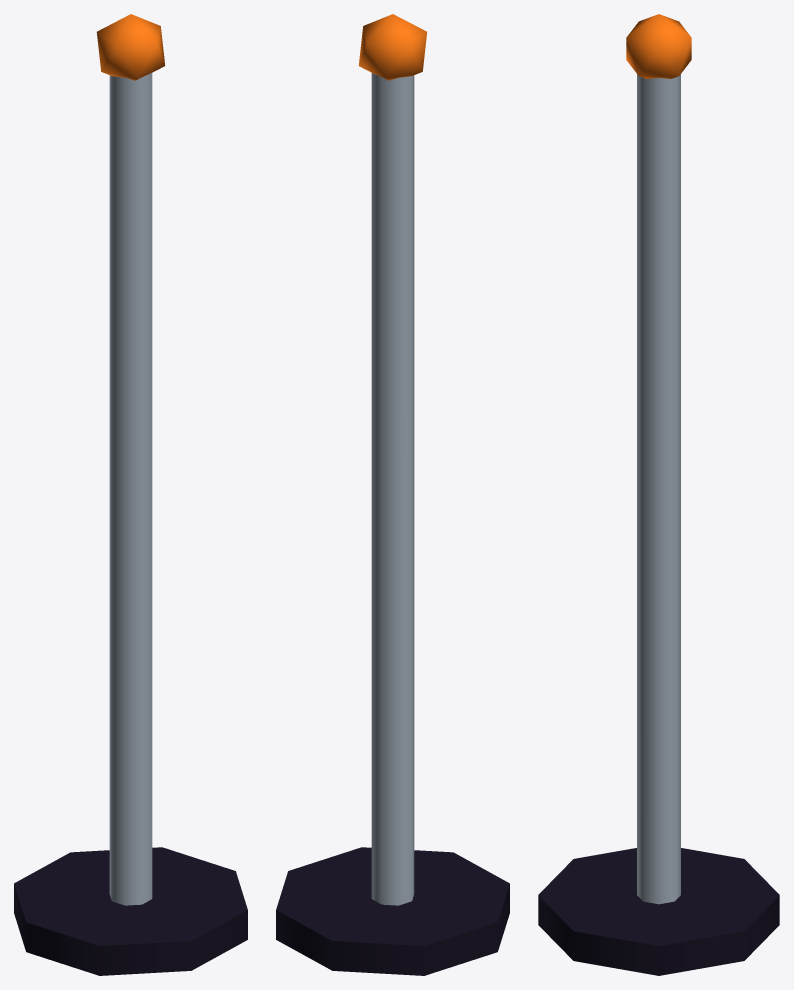
The model's file is station_special_ausstattung_3_0.glb.
The picture shows the model from 3 angles, left to right: view 1: azimuth 30°, elevation 25°; view 2: azimuth 150°, elevation 25°; view 3: azimuth 270°, elevation 25°; orthographic projection.
Parts seen in each view (by area): view 1: station_special_ausstattung_3_0; view 2: station_special_ausstattung_3_0; view 3: station_special_ausstattung_3_0.
Part boxes in pixels (x1,y1,x2,y2): station_special_ausstattung_3_0: (14,14,247,975); station_special_ausstattung_3_0: (276,14,509,975); station_special_ausstattung_3_0: (538,14,779,975).
Size of the model in its own units: 0.22 by 0.915 by 0.22.
